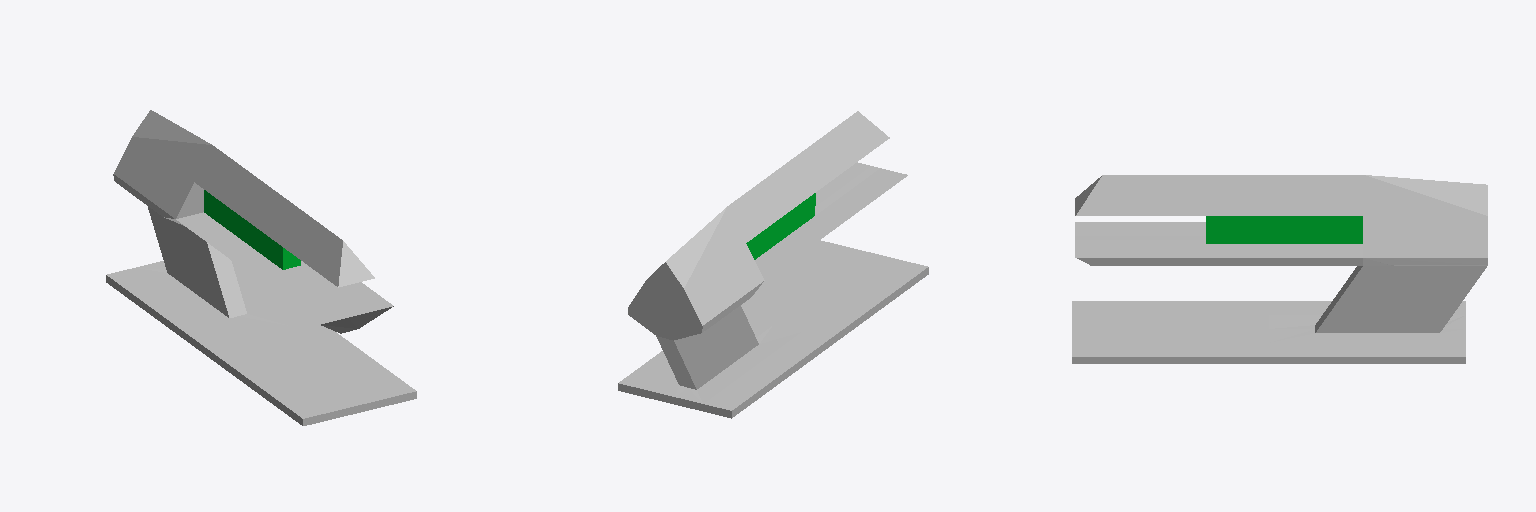
Rendered from railgun.obj.
The picture shows the model from 3 angles: view 1: azimuth 30°, elevation 25°; view 2: azimuth 150°, elevation 25°; view 3: azimuth 270°, elevation 25°; orthographic projection.
Parts seen in each view (by area): view 1: Cube; view 2: Cube; view 3: Cube.
Part boxes in pixels (bbox=[...]): Cube: bbox=[106, 110, 416, 425]; Cube: bbox=[618, 111, 928, 418]; Cube: bbox=[1072, 175, 1487, 363].
Size of the model in its own units: 0.4 by 0.5414 by 1.27.